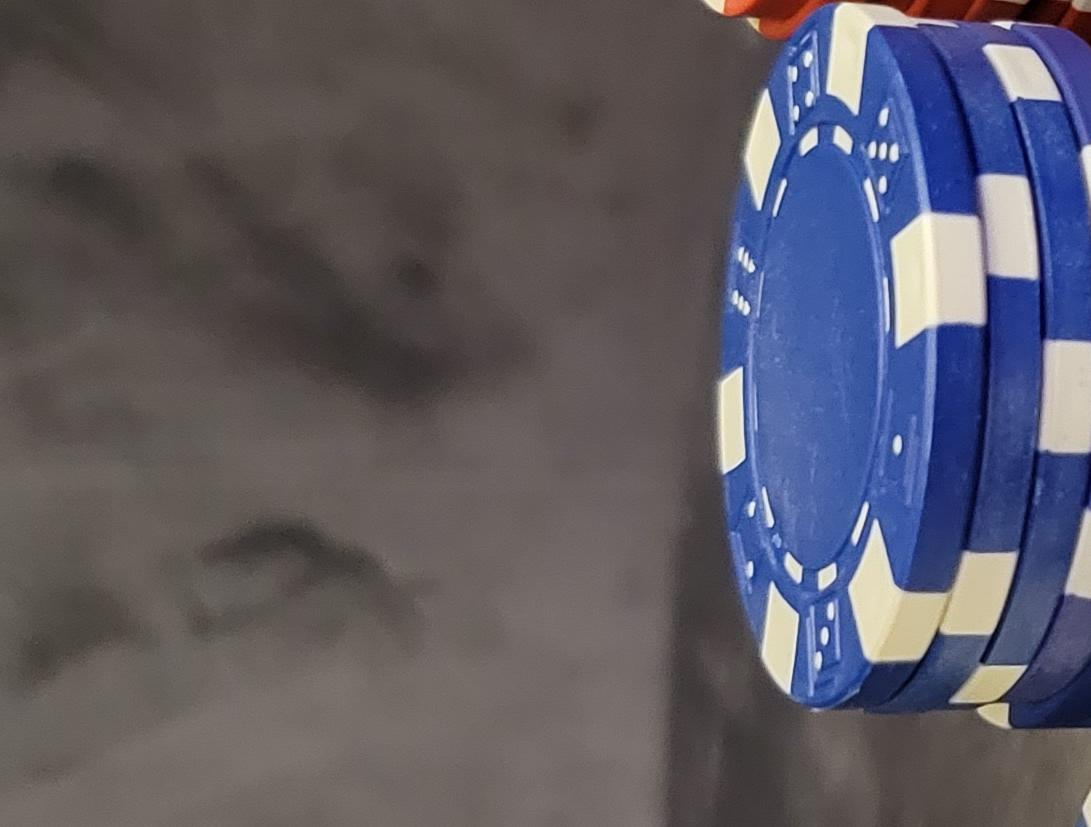Chip: (1, 360, 675, 827)
